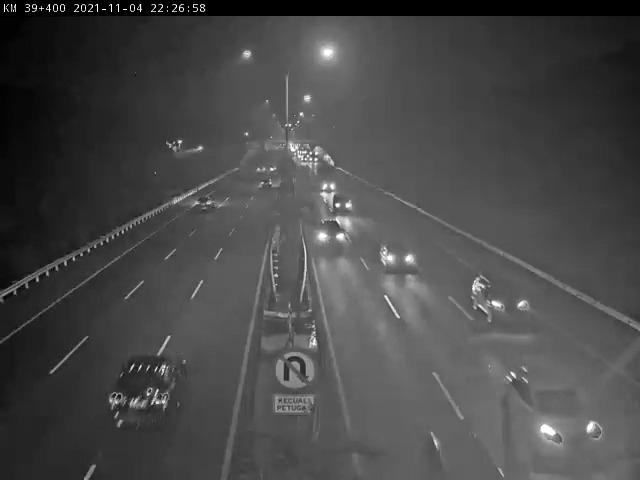car: (501, 361, 610, 466), (109, 355, 187, 431), (473, 272, 533, 323), (377, 235, 417, 272), (314, 217, 347, 247), (192, 194, 217, 214)
